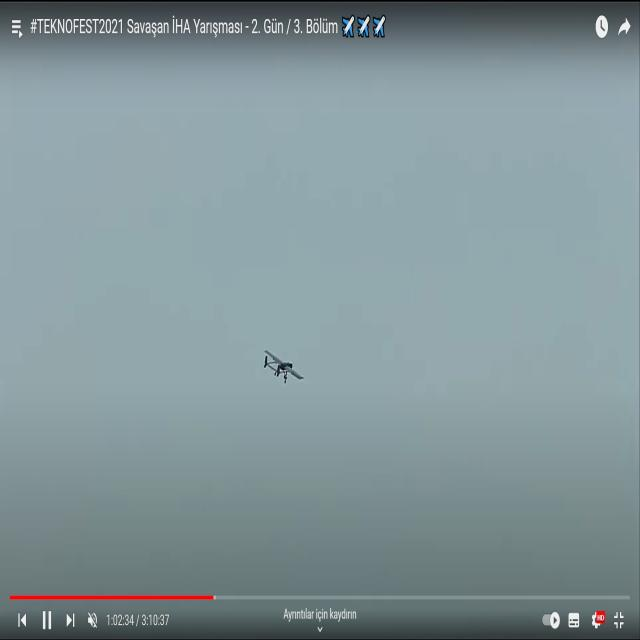iha: (263, 346, 306, 384)
